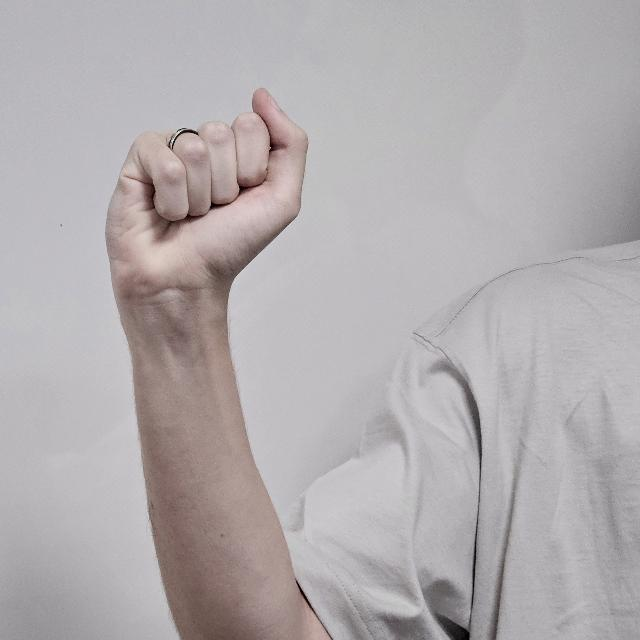Quadro: (105, 90, 308, 300)
